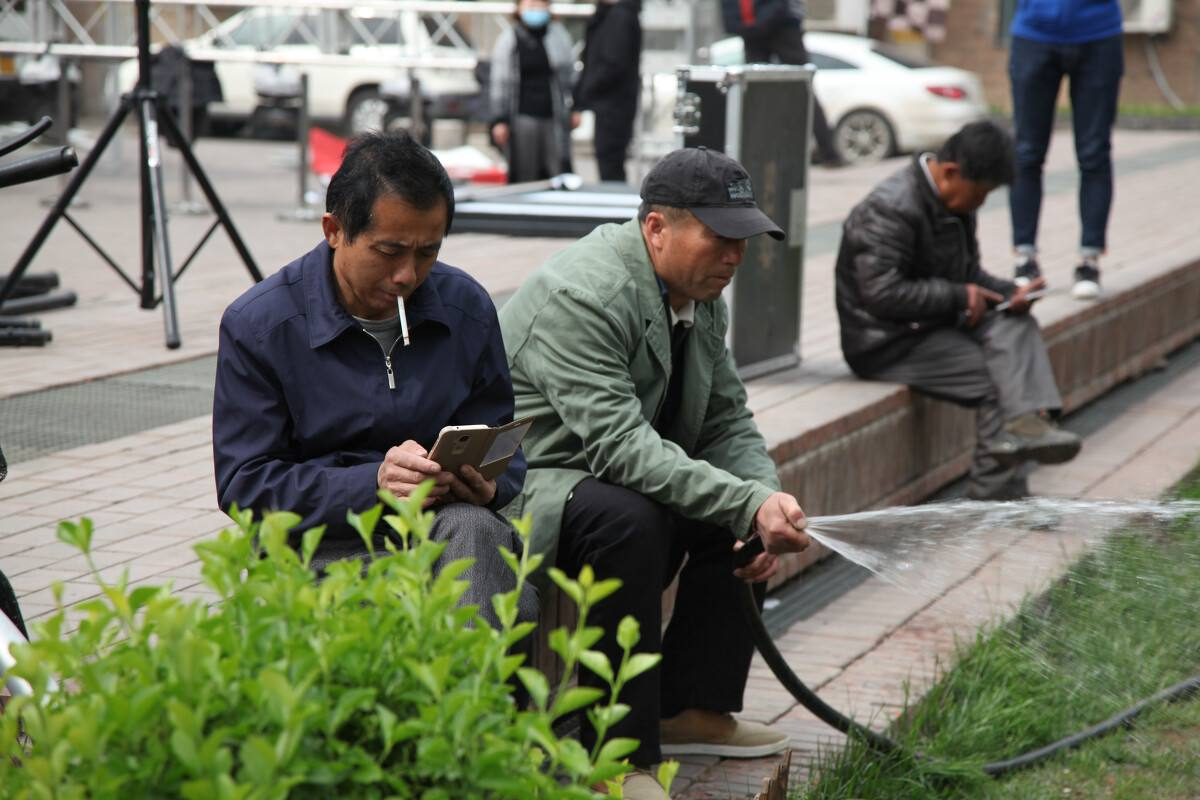reading: (375, 412, 530, 508)
